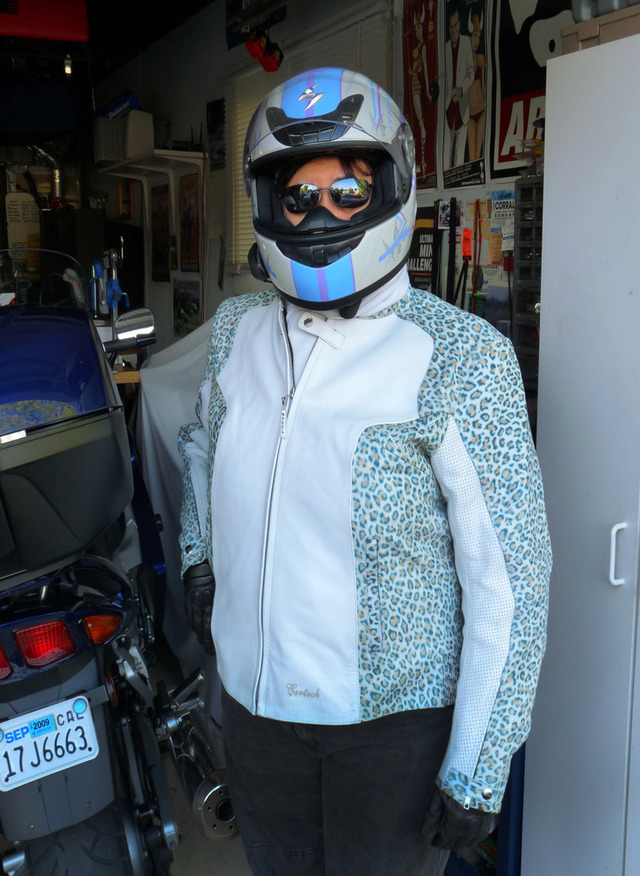helmet: (237, 89, 419, 280)
